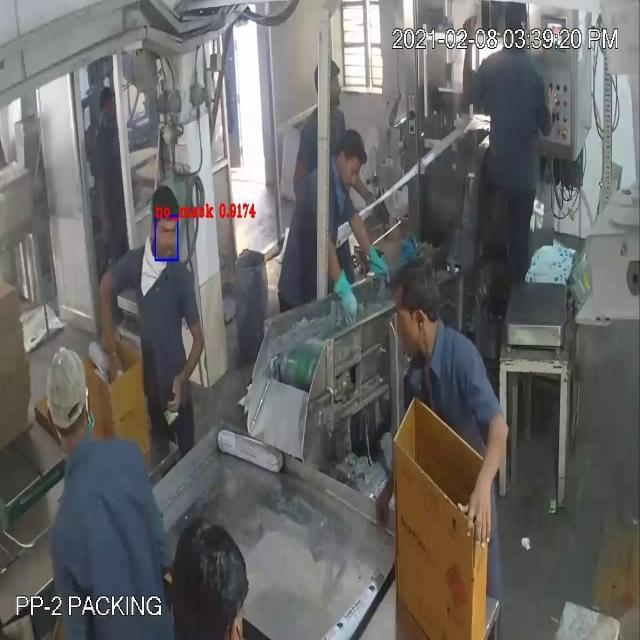No_Gloves: (41, 130, 486, 474)
